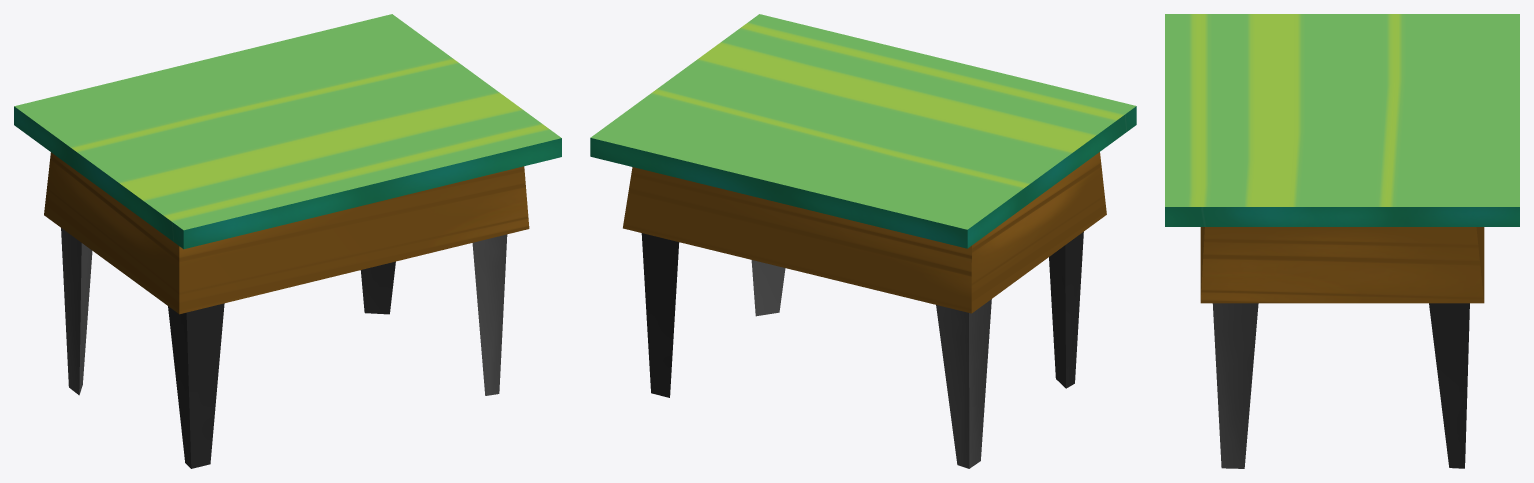
Rendered from desk1.obj.
3 renders of one model, left to right at view 1: azimuth 30°, elevation 25°; view 2: azimuth 150°, elevation 25°; view 3: azimuth 270°, elevation 25°, orthographic. The views are drawn at different scales.
Visible parts, largest first — view 1: pCube9; view 2: pCube9; view 3: pCube9.
Part boxes in pixels (x1=…): pCube9: x1=14, y1=14, x2=561, y2=468; pCube9: x1=590, y1=14, x2=1136, y2=468; pCube9: x1=1165, y1=14, x2=1519, y2=468.
Size of the model in its own units: 48.35 by 32.62 by 37.55.
Materials: 1 (1 with a texture image).
